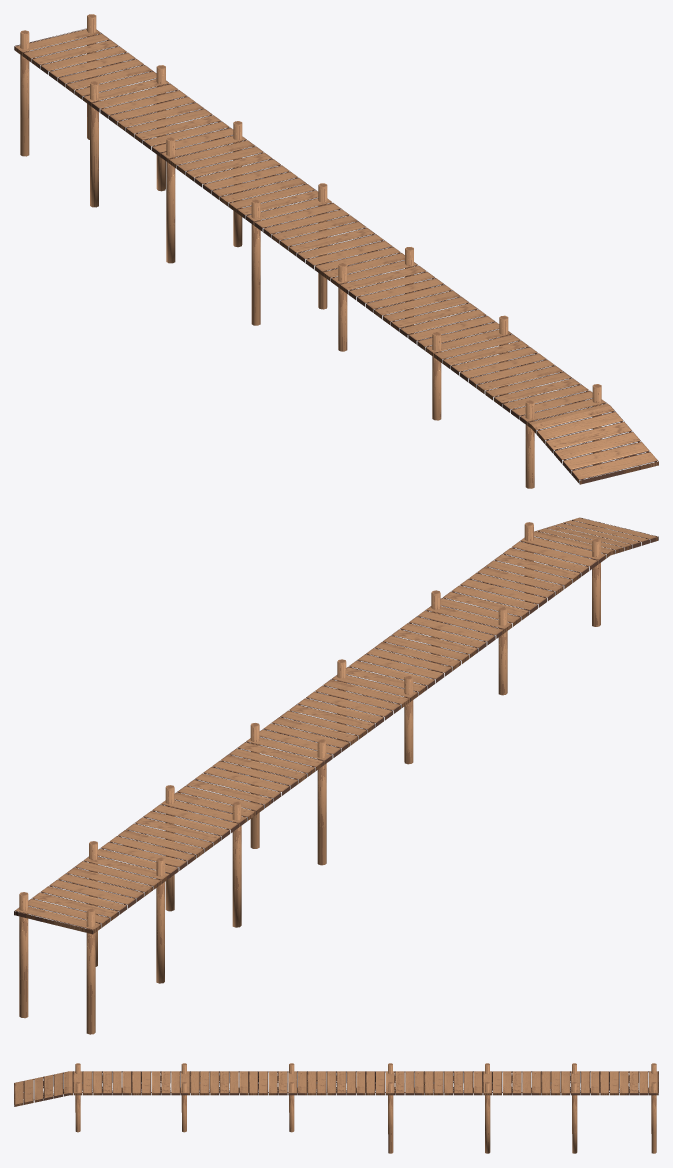
File: BeachDock.glb
The picture shows the model from 3 angles, top to bottom: view 1: azimuth 30°, elevation 25°; view 2: azimuth 150°, elevation 25°; view 3: azimuth 270°, elevation 25°; orthographic projection. The views are drawn at different scales.
Visible parts, largest first — view 1: Dock; view 2: Dock; view 3: Dock.
Boxes of the visible parts, box(x1,y1,x2,y2) form: Dock: box(14, 14, 658, 488); Dock: box(14, 517, 658, 1034); Dock: box(14, 1063, 658, 1153).
Bounding box in the file's own units: 1.93 × 2.85 × 23.9.
1 material, 1 textured.
